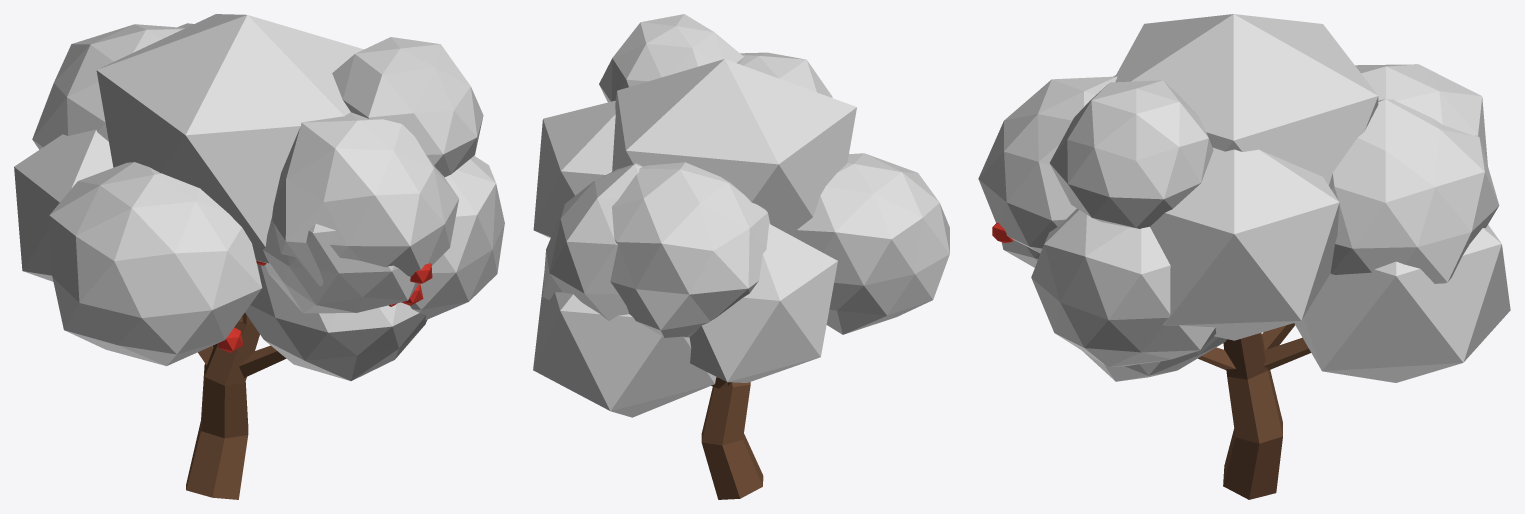
File: tree_apple_1.glb
3 views of the same model, side by side, from view 1: azimuth 30°, elevation 25°; view 2: azimuth 150°, elevation 25°; view 3: azimuth 270°, elevation 25° (orthographic). The views are drawn at different scales.
Parts seen in each view (by area): view 1: tree_apple_1; view 2: tree_apple_1; view 3: tree_apple_1.
Part boxes in pixels (left/top/right/bottom): tree_apple_1: left=14, top=14, right=504, bottom=499; tree_apple_1: left=533, top=14, right=949, bottom=499; tree_apple_1: left=978, top=14, right=1510, bottom=499.
Size of the model in its own units: 4.07 by 4.5 by 4.46.
